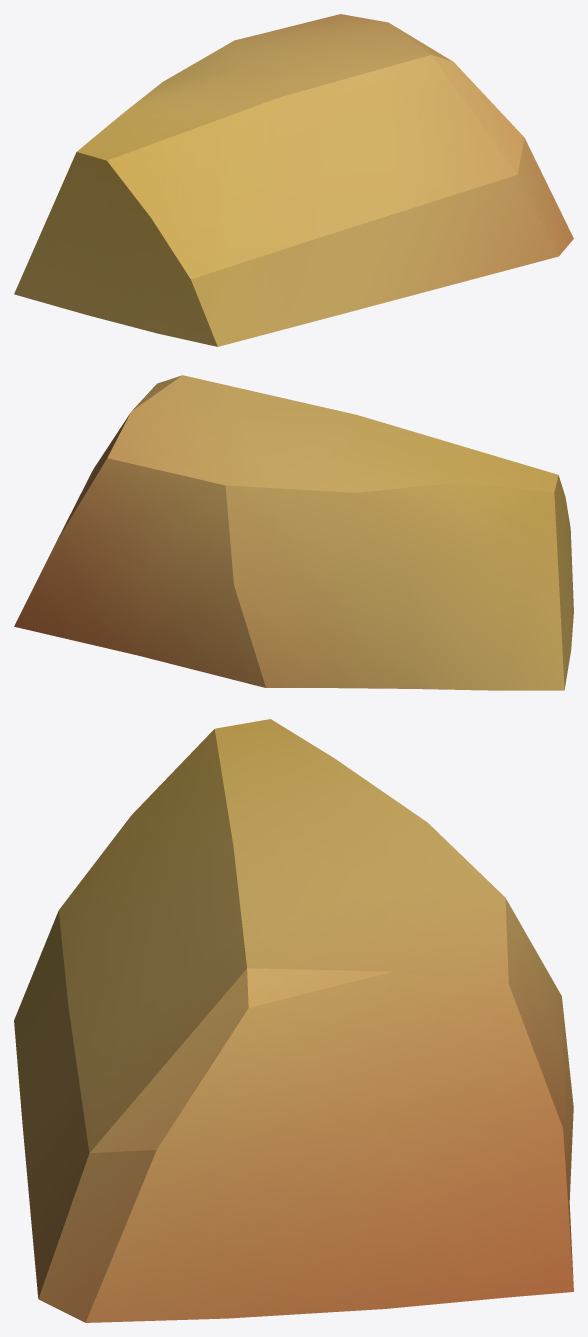
The model's file is Canyon_Stone_014.FBX.
3 views of the same model, one above another, from view 1: azimuth 30°, elevation 25°; view 2: azimuth 150°, elevation 25°; view 3: azimuth 270°, elevation 25° (orthographic). The views are drawn at different scales.
Parts seen in each view (by area): view 1: Canyon_Stone_014; view 2: Canyon_Stone_014; view 3: Canyon_Stone_014.
Boxes of the visible parts, x1,y1,x2,y2 form: Canyon_Stone_014: (14,14,573,346); Canyon_Stone_014: (14,375,573,690); Canyon_Stone_014: (14,719,573,1322).
Bounding box in the file's own units: 157 × 53.59 × 97.21.
1 material, 1 textured.
